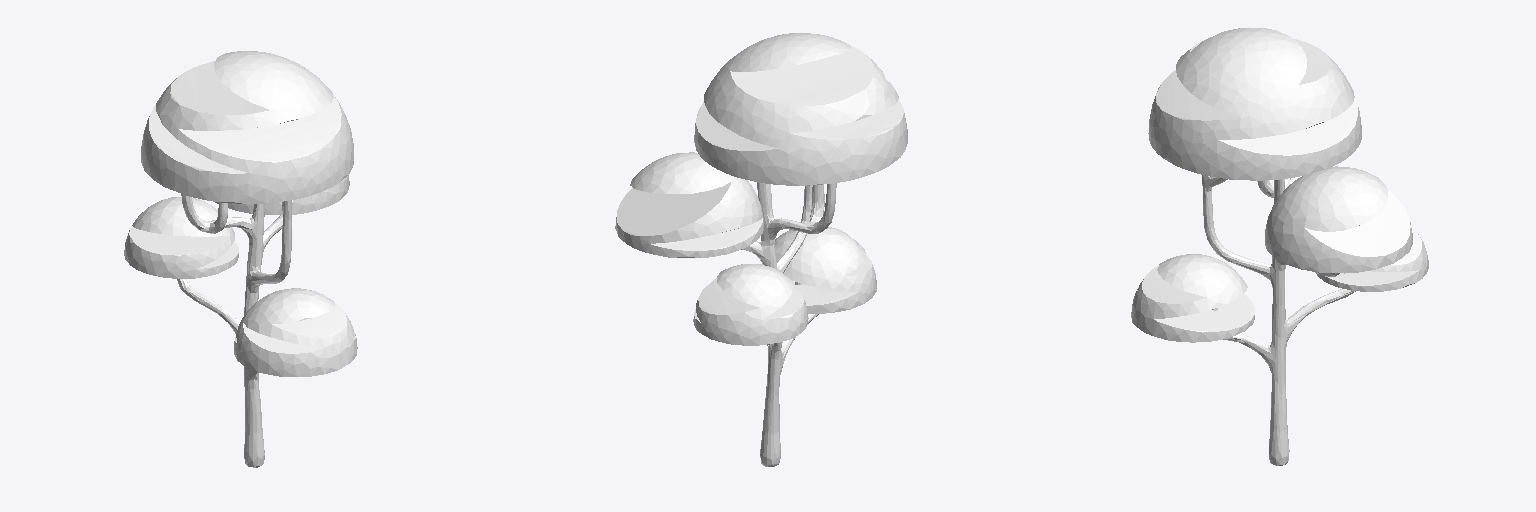
Rendered from tree.obj.
3 renders of one model, left to right at view 1: azimuth 30°, elevation 25°; view 2: azimuth 150°, elevation 25°; view 3: azimuth 270°, elevation 25°, orthographic.
Visible parts, largest first — view 1: Leaves_Mesh.001_Leaves1, Trunk_Mesh_Trunk1; view 2: Leaves_Mesh.001_Leaves1, Trunk_Mesh_Trunk1; view 3: Leaves_Mesh.001_Leaves1, Trunk_Mesh_Trunk1.
Boxes of the visible parts, x1,y1,x2,y2 form: Leaves_Mesh.001_Leaves1: [124, 51, 357, 376]; Trunk_Mesh_Trunk1: [177, 194, 292, 467]; Leaves_Mesh.001_Leaves1: [615, 33, 907, 345]; Trunk_Mesh_Trunk1: [741, 182, 836, 466]; Leaves_Mesh.001_Leaves1: [1131, 28, 1428, 342]; Trunk_Mesh_Trunk1: [1202, 175, 1355, 465].
Size of the model in its own units: 0.0344 by 0.0607 by 0.0392.